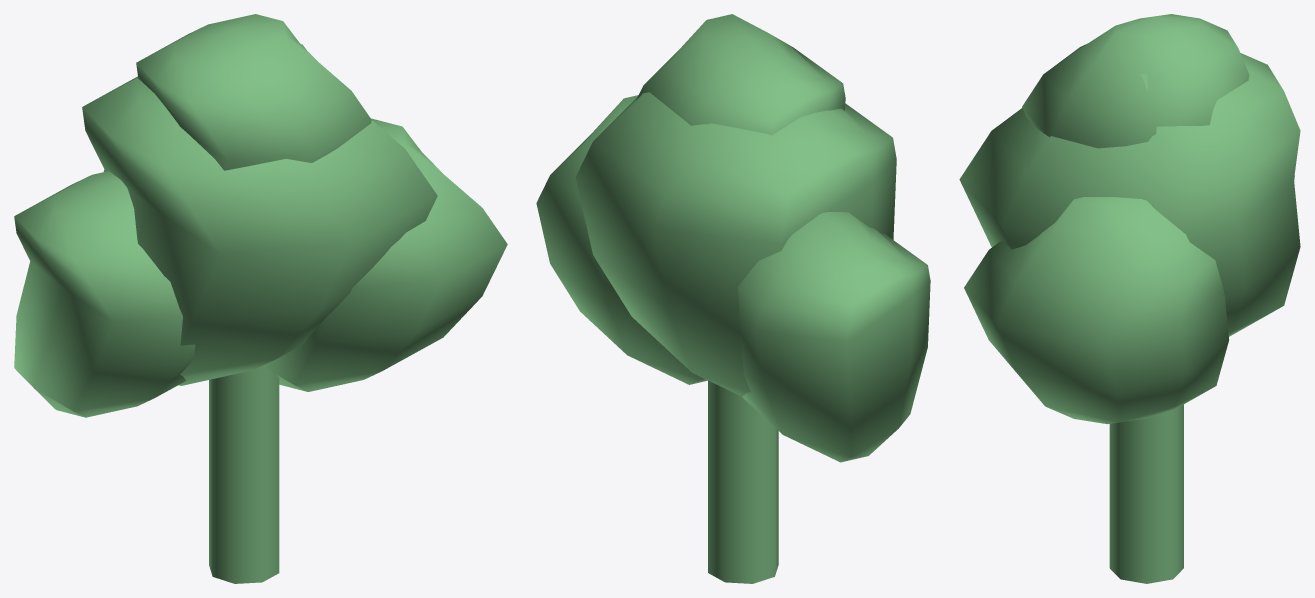
File: tree_oak.gltf
The picture shows the model from 3 angles, left to right: view 1: azimuth 30°, elevation 25°; view 2: azimuth 150°, elevation 25°; view 3: azimuth 270°, elevation 25°; orthographic projection. The views are drawn at different scales.
Parts seen in each view (by area): view 1: tree_oak; view 2: tree_oak; view 3: tree_oak.
Boxes of the visible parts, box(x1,y1,x2,y2) form: tree_oak: box(14, 14, 507, 583); tree_oak: box(536, 14, 930, 583); tree_oak: box(959, 14, 1300, 583).
Size of the model in its own units: 4.96 by 6.53 by 3.67.
